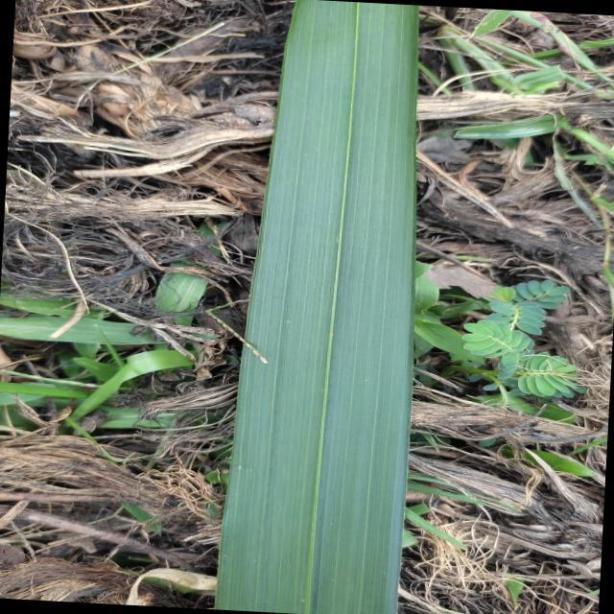Healthy: (224, 0, 425, 614)
